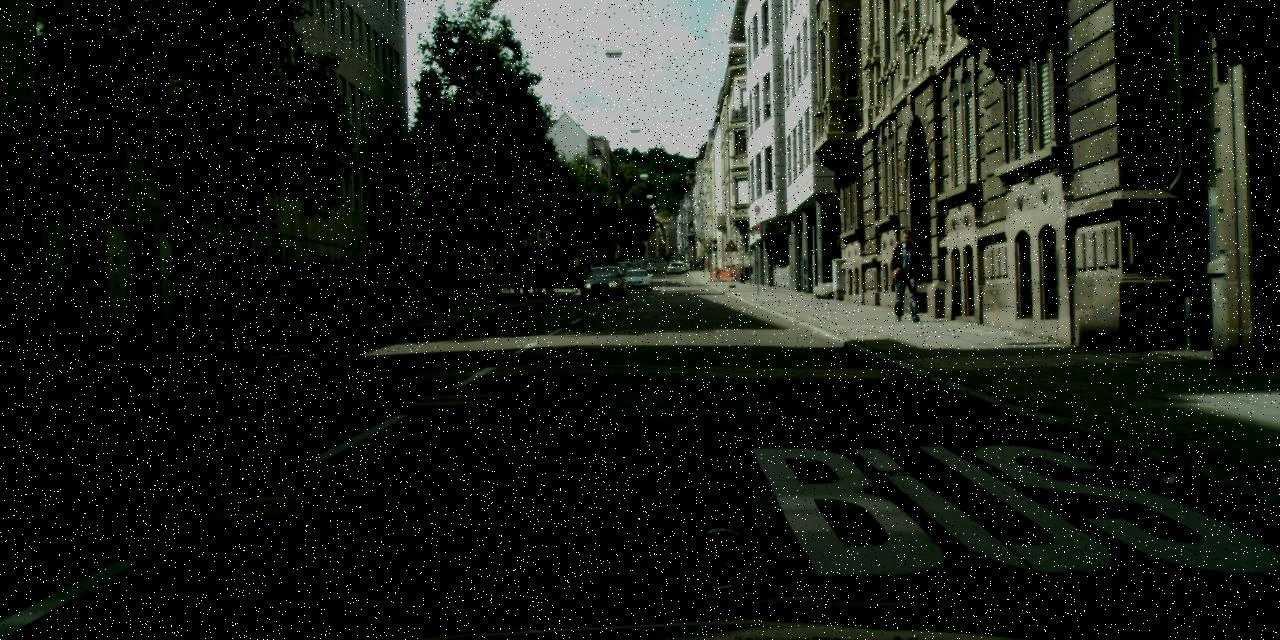ped: (214, 242, 256, 346), (887, 228, 924, 320), (300, 247, 330, 319), (330, 254, 358, 320), (518, 261, 533, 297), (509, 260, 523, 296), (529, 260, 543, 296), (541, 262, 555, 296)
